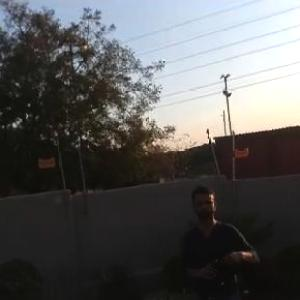follow: (172, 173, 268, 299)
